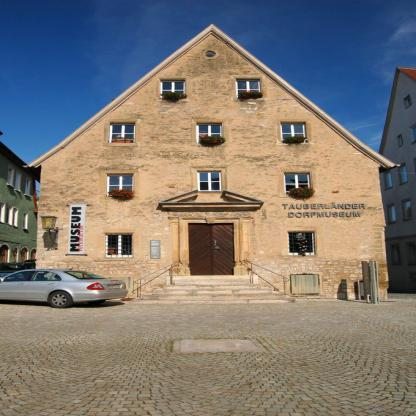car: (0, 269, 128, 313)
